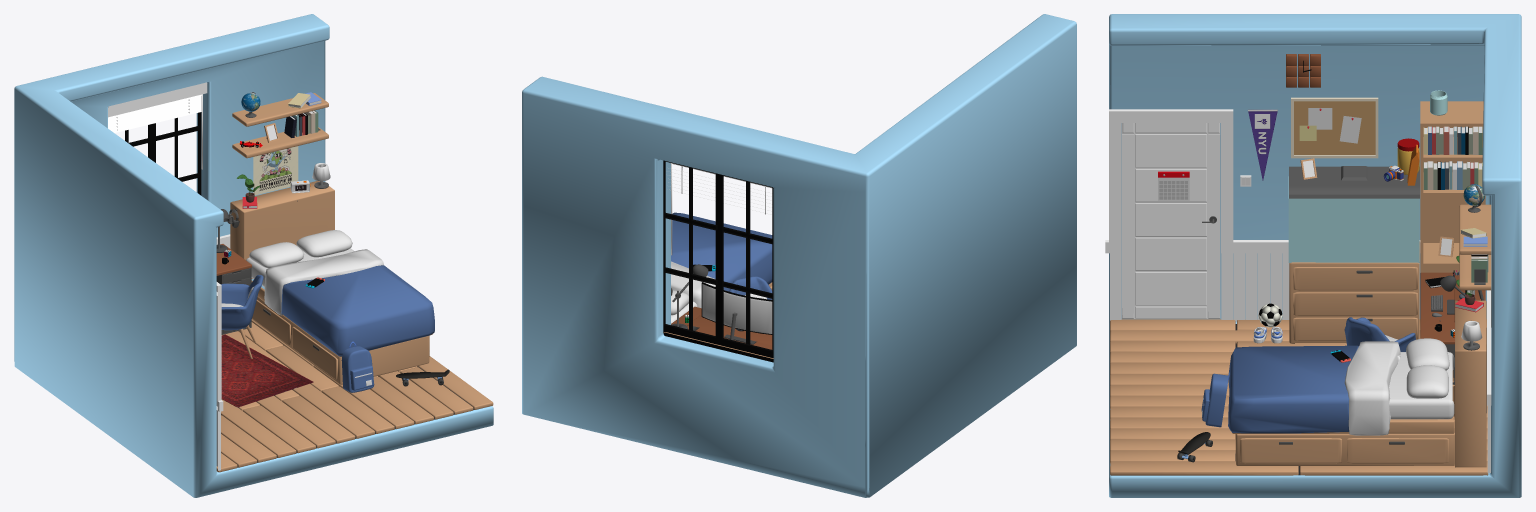
File: clean-room-model.glb
3 views of the same model, side by side, from view 1: azimuth 30°, elevation 25°; view 2: azimuth 150°, elevation 25°; view 3: azimuth 270°, elevation 25° (orthographic). The views are drawn at different scales.
Visible parts, largest first — view 1: Walls.001, Plane.012, Pillow.001, Cube.054, Plane, Chair, Plane.006, Blinds, Handle, Window Pane, Shelf.004, Shelf.001 (+6 smaller); view 2: Walls.001, Window Pane, Pillow.001, Monitor, Table Top.001; view 3: Walls.001, Plane.012, Pillow.001, Door, Cube.054, Cube.061, Aquarium Glass.001, Wall Trim.001, Bookshelf, Wall Trim, Bulletin Board, Aquarium Lid (+19 smaller).
Boxes of the visible parts, x1,y1,x2,y2 form: Walls.001: [14, 14, 493, 497]; Plane.012: [216, 319, 493, 472]; Pillow.001: [246, 230, 434, 356]; Cube.054: [230, 181, 433, 384]; Plane: [221, 334, 313, 407]; Chair: [221, 275, 263, 358]; Plane.006: [253, 146, 298, 195]; Blinds: [108, 94, 201, 132]; Handle: [341, 341, 374, 392]; Window Pane: [125, 112, 201, 195]; Shelf.004: [232, 93, 328, 126]; Shelf.001: [232, 127, 328, 158]; Walls.001: [522, 14, 1076, 497]; Window Pane: [663, 160, 773, 362]; Pillow.001: [671, 212, 772, 323]; Monitor: [701, 282, 772, 334]; Table Top.001: [687, 315, 772, 345]; Walls.001: [1109, 14, 1521, 497]; Plane.012: [1110, 319, 1488, 475]; Pillow.001: [1228, 338, 1454, 435]; Door: [1122, 123, 1220, 318]; Cube.054: [1232, 300, 1486, 467]; Cube.061: [1289, 262, 1419, 343]; Aquarium Glass.001: [1288, 176, 1419, 262]; Wall Trim.001: [1105, 109, 1491, 405]; Bookshelf: [1420, 101, 1485, 272]; Wall Trim: [1221, 253, 1490, 472]; Bulletin Board: [1291, 97, 1378, 158]; Aquarium Lid: [1289, 166, 1419, 198].
Bounding box in the file's own units: 3.63 × 3.22 × 3.81.
Materials: 112 (8 with a texture image).
